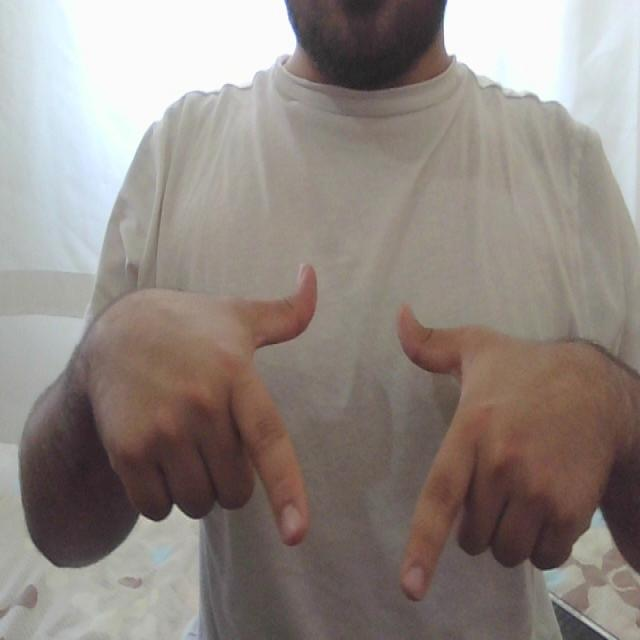Nerede: (220, 255, 494, 609)
